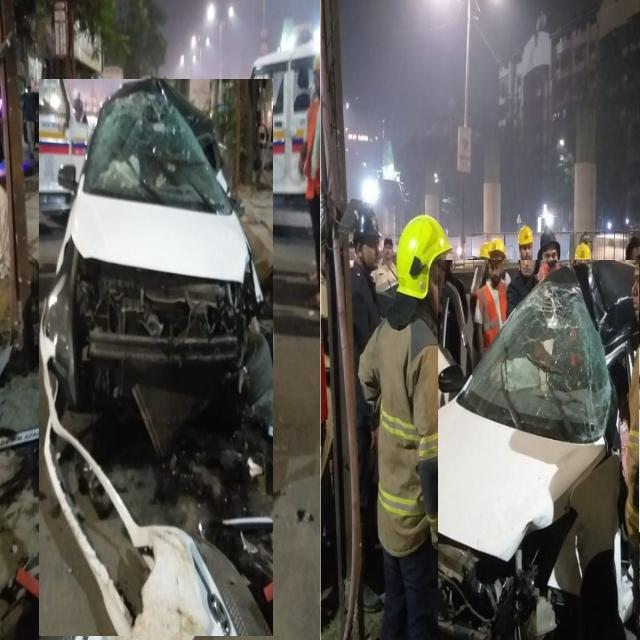accident: (40, 80, 273, 636), (439, 260, 639, 640)
car: (225, 38, 320, 211)
